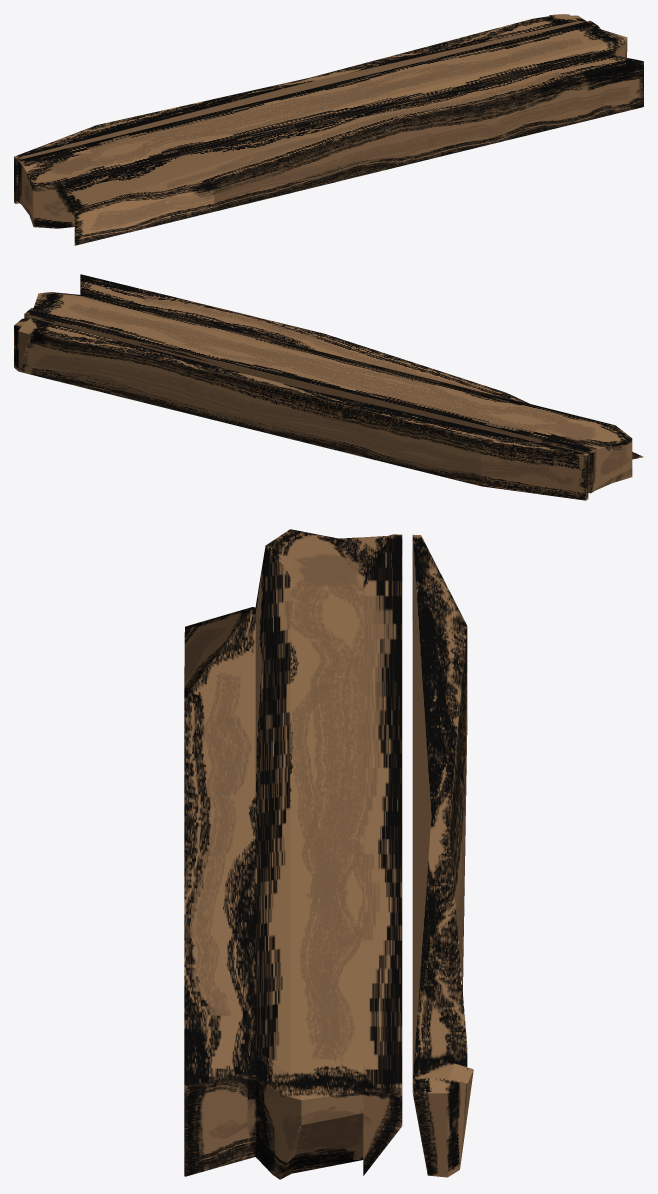
File: Plank3.fbx
3 views of the same model, one above another, from view 1: azimuth 30°, elevation 25°; view 2: azimuth 150°, elevation 25°; view 3: azimuth 270°, elevation 25° (orthographic). The views are drawn at different scales.
Parts seen in each view (by area): view 1: Cube.003; view 2: Cube.003; view 3: Cube.003.
Boxes of the visible parts, x1,y1,x2,y2 form: Cube.003: (14, 14, 643, 245); Cube.003: (14, 274, 643, 500); Cube.003: (184, 529, 473, 1179).
Bounding box in the file's own units: 842 × 64.8 × 179.
1 material, 1 textured.
